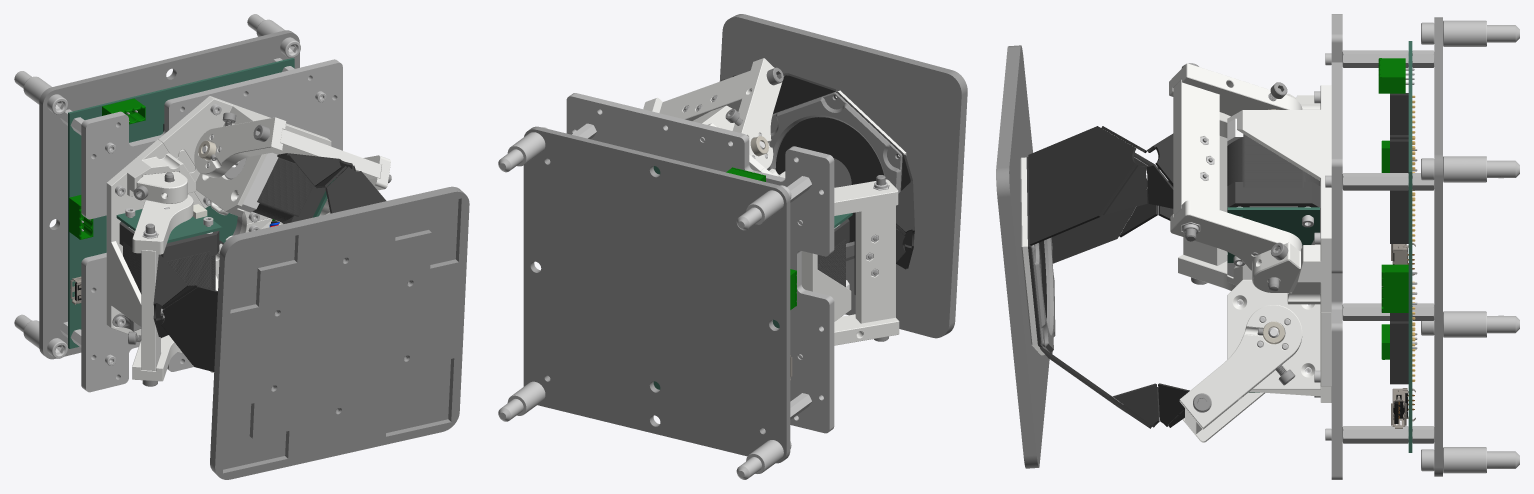
Rendered from tile.fbx.
3 views of the same model, side by side, from view 1: azimuth 30°, elevation 25°; view 2: azimuth 150°, elevation 25°; view 3: azimuth 270°, elevation 25° (orthographic). The views are drawn at different scales.
Parts seen in each view (by area): view 1: Body2, Body1 (×22), Body7, Body3 (×4); view 2: Body1 (×16), Body2, Body7, Body3 (×3); view 3: Body1 (×32), Body3 (×5), Body2, Body7.
Boxes of the visible parts, <box> form: Body2: <box>210,186,469,479</box>; Body1 (×22): <box>14,14,386,371</box>; Body7: <box>81,59,342,392</box>; Body3 (×4): <box>132,117,390,381</box>; Body1 (×16): <box>498,70,914,479</box>; Body2: <box>719,14,967,338</box>; Body7: <box>566,93,834,433</box>; Body3 (×3): <box>732,58,899,345</box>; Body1 (×32): <box>1020,17,1519,476</box>; Body3 (×5): <box>1169,63,1302,442</box>; Body2: <box>996,45,1049,468</box>; Body7: <box>1331,14,1342,479</box>.
Bounding box in the file's own units: 170 × 186 × 238.
